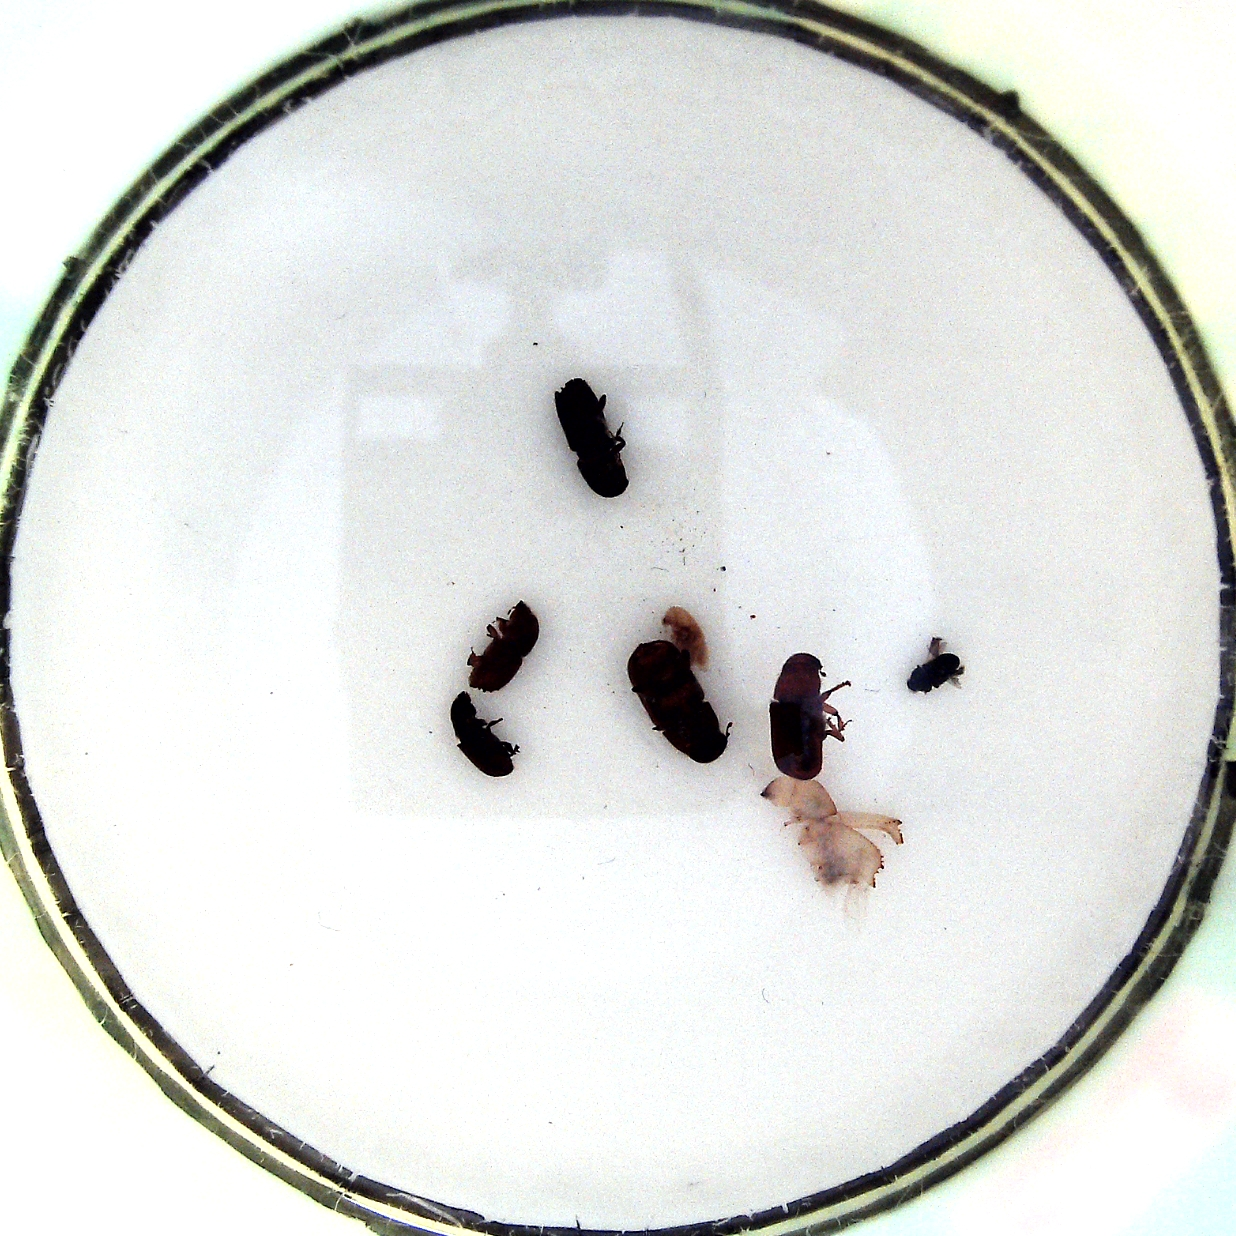Boerner: (763, 778, 904, 901), (552, 378, 634, 501)
Leconte: (632, 640, 732, 766), (765, 650, 857, 781)
Linnaeus: (462, 599, 540, 696)
acuminatus: (663, 602, 713, 673)
armandi: (447, 689, 522, 783)
coleoptera: (903, 637, 970, 701)
